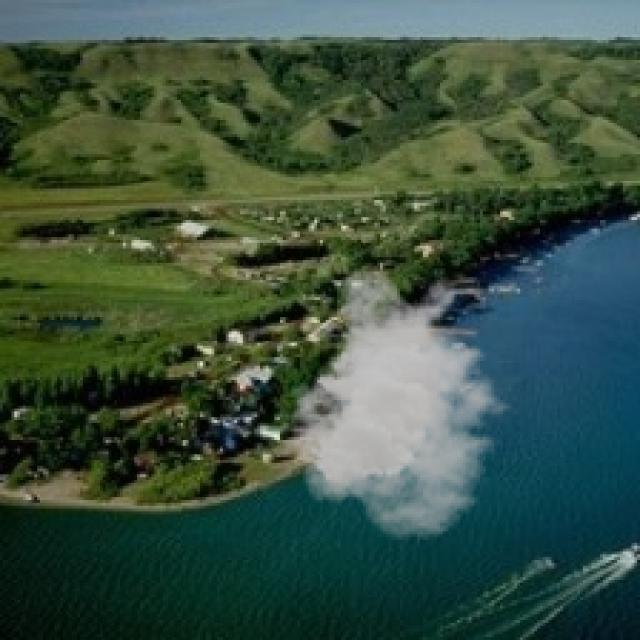Smoke: (283, 266, 523, 540)
